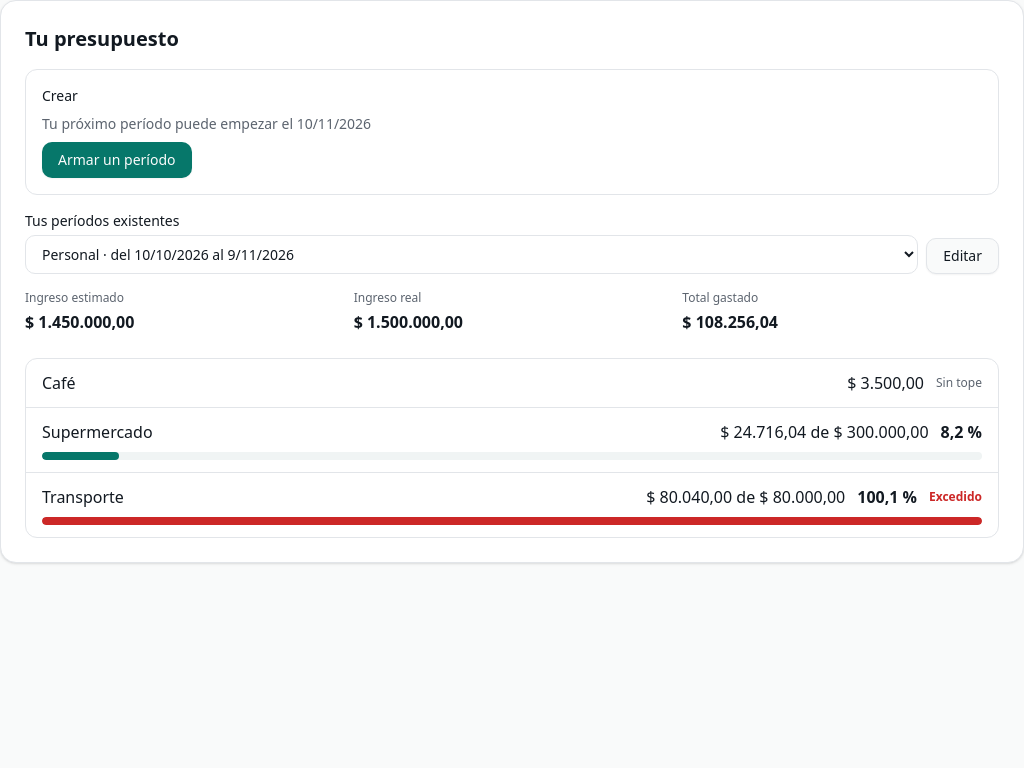
Test: case C1-34: the detail of Supermercado, with its movements
Click the button "Supermercado" at (97, 432), box [42, 420, 153, 444]
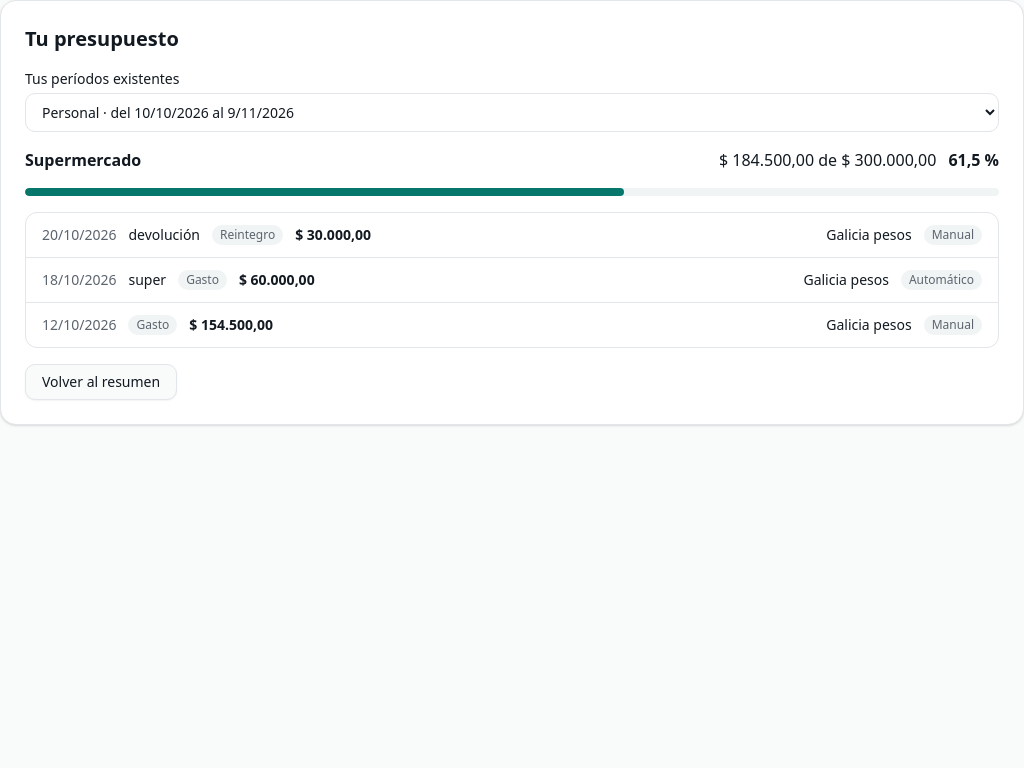
Now the text with class "budget-category__spent" reads "$ 184.500,00 de $ 300.000,00", box [719, 149, 936, 171]
